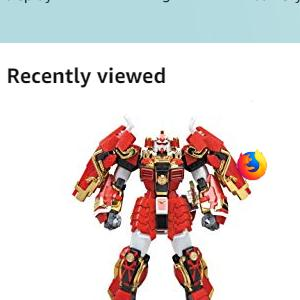firefox: (236, 148, 267, 180)
